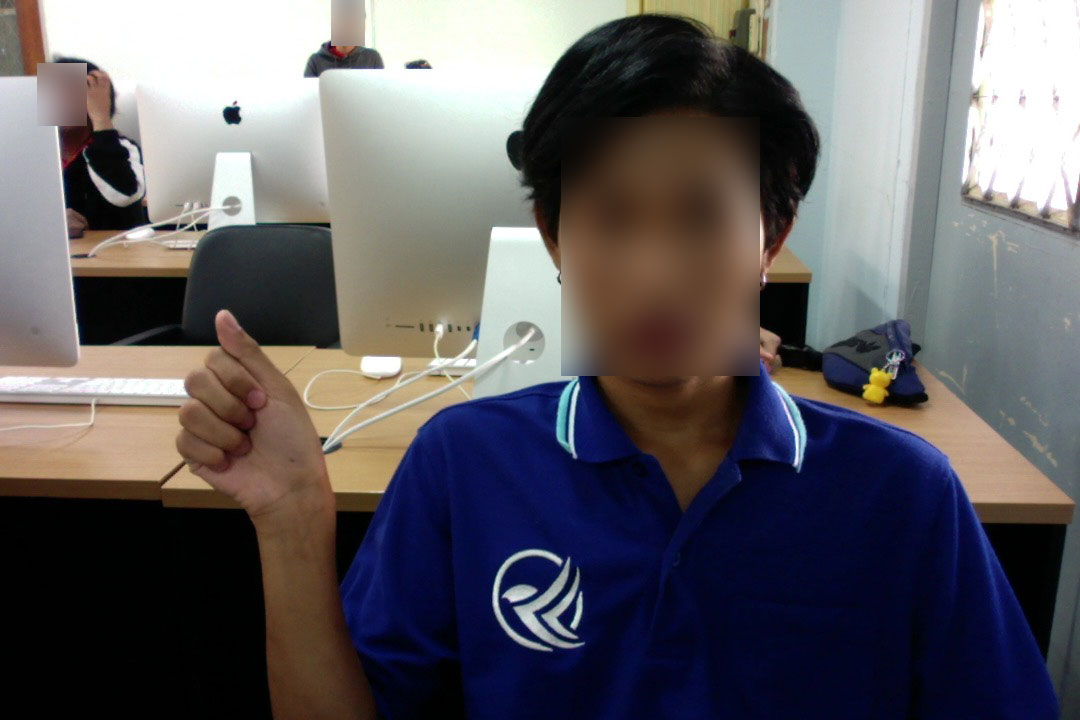or: (171, 298, 339, 536)
